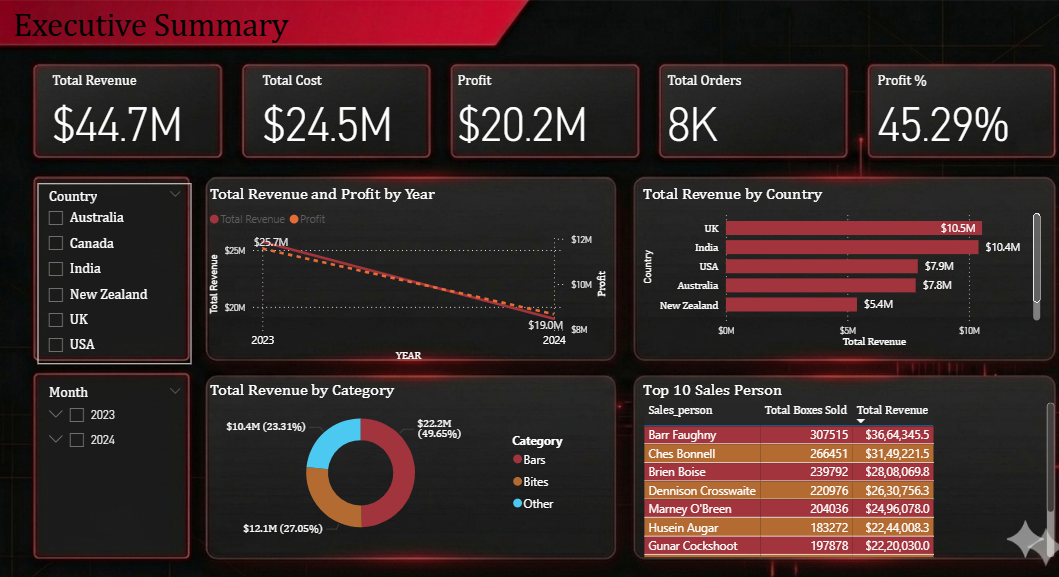

The dashboard page shown, as its layout file describes it:
{"tool":"powerbi","page":{"name":"Executive Summary","canvas":[1220,700],"ordinal":0},"visuals":[{"type":"textbox","box":[16,0,640,112],"z":0},{"type":"image","box":[0,-4,1232,704],"z":1000},{"type":"textbox","box":[16,16,544,64],"z":2000},{"type":"cardVisual","fields":{"Data":["All Mesaures.Total Revenue"]},"box":[48,96,208,96],"z":3000},{"type":"cardVisual","fields":{"Data":["All Mesaures.Total Cost"]},"box":[288,96,208,96],"z":4000},{"type":"cardVisual","fields":{"Data":["All Mesaures.Profit"]},"box":[512,96,208,96],"z":5000},{"type":"cardVisual","fields":{"Data":["All Mesaures.Total Orders"]},"box":[752,96,208,96],"z":6000},{"type":"cardVisual","fields":{"Data":["All Mesaures.Profit %"]},"box":[992,96,208,96],"z":7000},{"type":"slicer","fields":{"Values":["locations.Geo"]},"box":[48,224,176,208],"z":8000},{"type":"slicer","fields":{"Values":["calendar.cal_date.Variation.Date Hierarchy.Year","calendar.cal_date.Variation.Date Hierarchy.Month"]},"box":[48,448,176,192],"z":9000},{"type":"lineChart","fields":{"Category":["calendar.cal_date.Variation.Date Hierarchy.Year"],"Y":["All Mesaures.Total Revenue"],"Y2":["All Mesaures.Profit"]},"box":[240,224,464,208],"z":10000},{"type":"barChart","title":"Total Revenue by Country","fields":{"Category":["locations.Geo"],"Y":["All Mesaures.Total Revenue"]},"box":[736,224,464,192],"z":11000},{"type":"donutChart","fields":{"Y":["All Mesaures.Total Revenue"],"Category":["products.Category"]},"box":[240,448,432,192],"z":12000},{"type":"tableEx","title":"Top 10 Sales Person","fields":{"Values":["people.Sales_person","All Mesaures.Total Boxes Sold","All Mesaures.Total Revenue"]},"box":[736,448,480,208],"z":13000}]}

Visuals, with their boxes on the page's 1220x700 design canvas (x1, y1, x2, y2). These are canvas units, not pixel positions in the 1059x577 screenshot, which may show the page scaled, cropped or inside an application window:
textbox: 16/0/656/112
image: 0/-4/1232/700
textbox: 16/16/560/80
cardVisual - All Mesaures.Total Revenue: 48/96/256/192
cardVisual - All Mesaures.Total Cost: 288/96/496/192
cardVisual - All Mesaures.Profit: 512/96/720/192
cardVisual - All Mesaures.Total Orders: 752/96/960/192
cardVisual - All Mesaures.Profit %: 992/96/1200/192
slicer - locations.Geo: 48/224/224/432
slicer - calendar.cal_date.Variation.Date Hierarchy.Year x calendar.cal_date.Variation.Date Hierarchy.Month: 48/448/224/640
lineChart - calendar.cal_date.Variation.Date Hierarchy.Year x All Mesaures.Total Revenue: 240/224/704/432
"Total Revenue by Country" barChart: 736/224/1200/416
donutChart - All Mesaures.Total Revenue x products.Category: 240/448/672/640
"Top 10 Sales Person" tableEx: 736/448/1216/656
